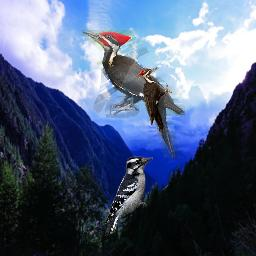Woodpecker: (81, 30, 185, 158), (104, 155, 153, 238), (137, 67, 172, 134)
